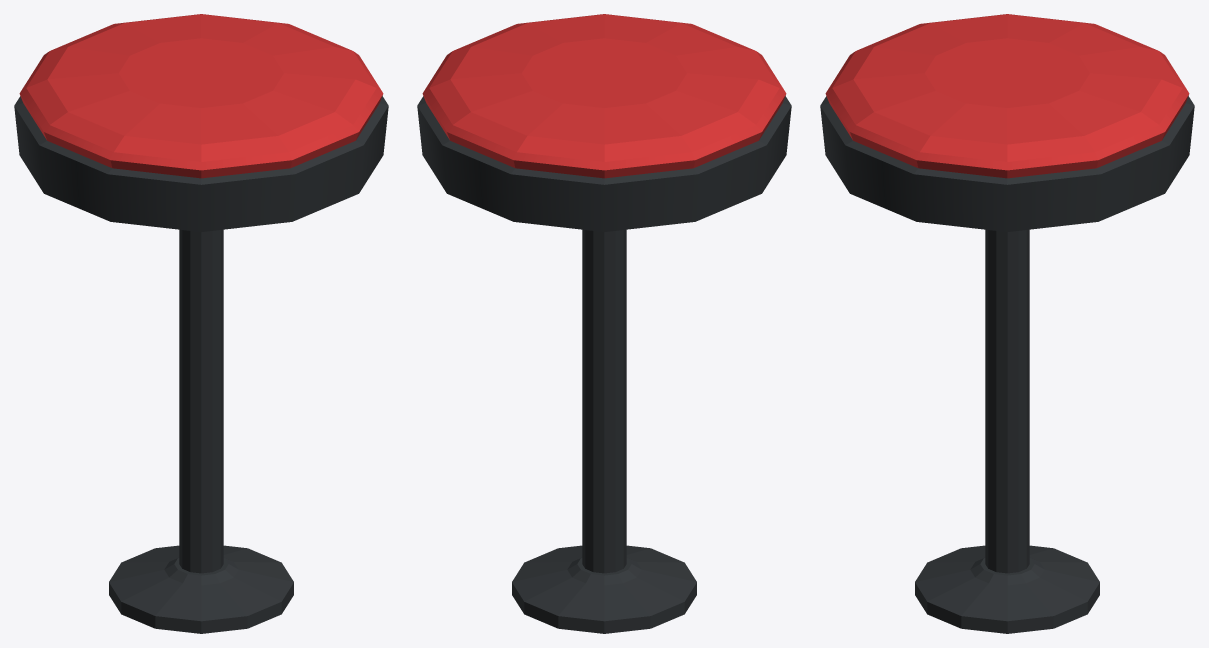
Rendered from SM_stool_02.fbx.
The picture shows the model from 3 angles, left to right: view 1: azimuth 30°, elevation 25°; view 2: azimuth 150°, elevation 25°; view 3: azimuth 270°, elevation 25°; orthographic projection.
Visible parts, largest first — view 1: stool_02; view 2: stool_02; view 3: stool_02.
Boxes of the visible parts, box(x1,y1,x2,y2) form: stool_02: box(14, 14, 388, 633); stool_02: box(417, 14, 791, 633); stool_02: box(820, 14, 1194, 633).
Size of the model in its own units: 56.99 by 87.57 by 56.99.
